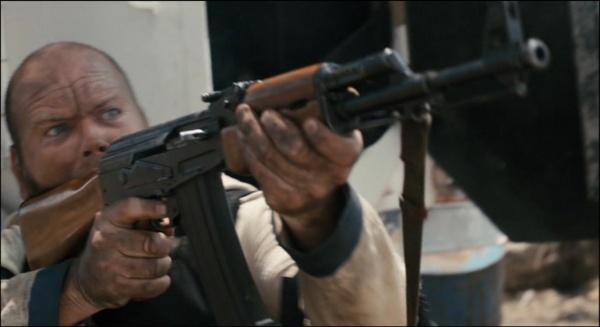rifle: (17, 29, 558, 319)
